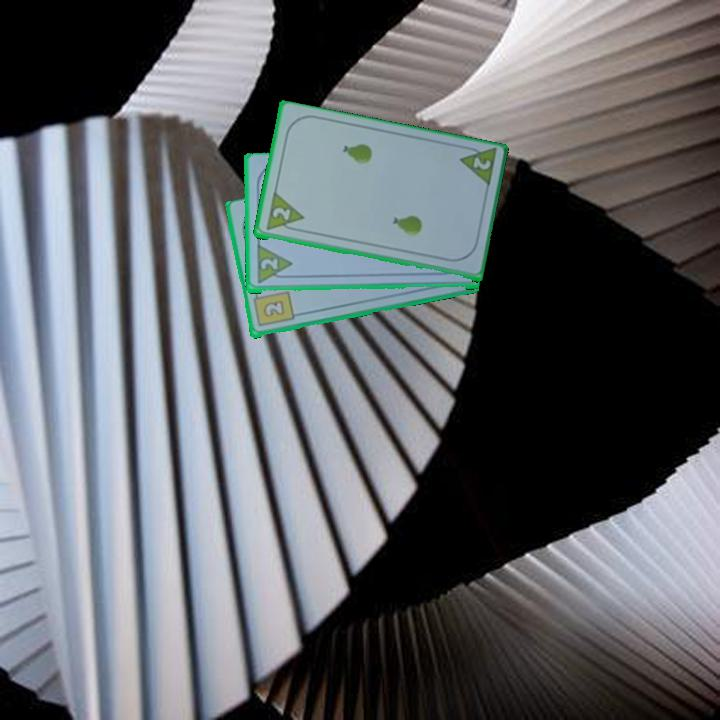2b: (249, 288, 296, 330)
2p: (262, 191, 306, 235), (469, 154, 494, 173), (257, 256, 280, 273)
